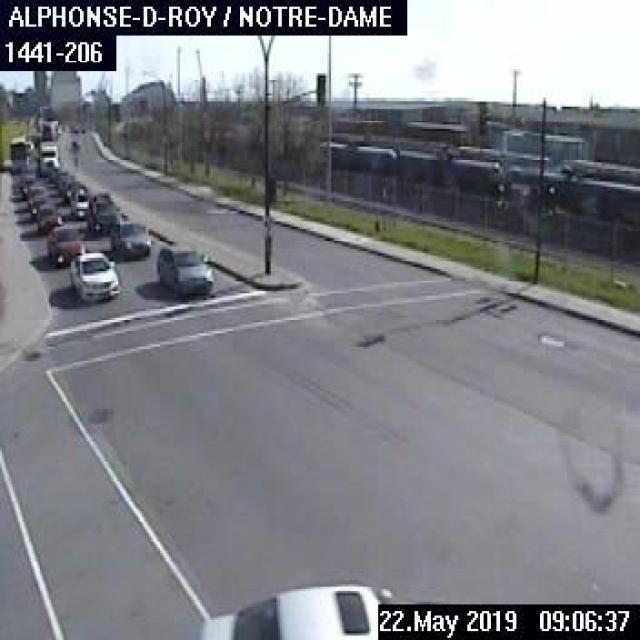vehicle: (200, 580, 411, 638), (152, 240, 212, 300), (68, 249, 116, 302), (106, 213, 151, 262), (42, 220, 86, 264), (85, 190, 117, 237), (36, 140, 58, 174), (35, 207, 63, 232), (68, 184, 88, 216)
